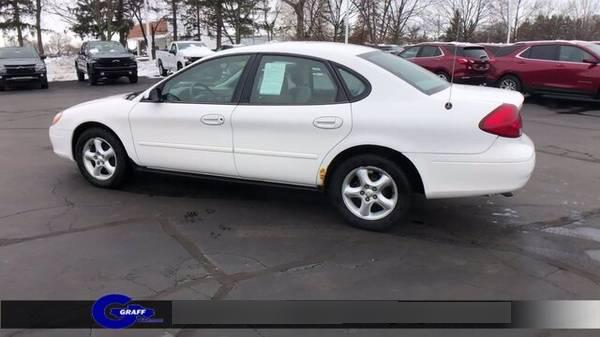Front_Fender: (48, 101, 138, 167)
Front_Left_Door: (128, 100, 238, 176)
Front_Left_Window: (141, 51, 261, 102)
Left_Taillight: (480, 103, 526, 139)
Rear_Bumper: (404, 132, 537, 198)
Rear_Fender: (336, 66, 505, 155)
Rear_Left_Door: (230, 103, 351, 186)
Rear_Left_Window: (242, 50, 355, 103)
Rear_Windshield: (361, 51, 455, 95)
Roof: (192, 40, 427, 98)
Tailgate: (430, 81, 523, 108)
Wheel: (329, 154, 419, 228), (76, 129, 124, 188)
